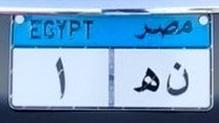1: (54, 56, 69, 100)
haa: (130, 65, 161, 98)
noon: (164, 59, 191, 99)
